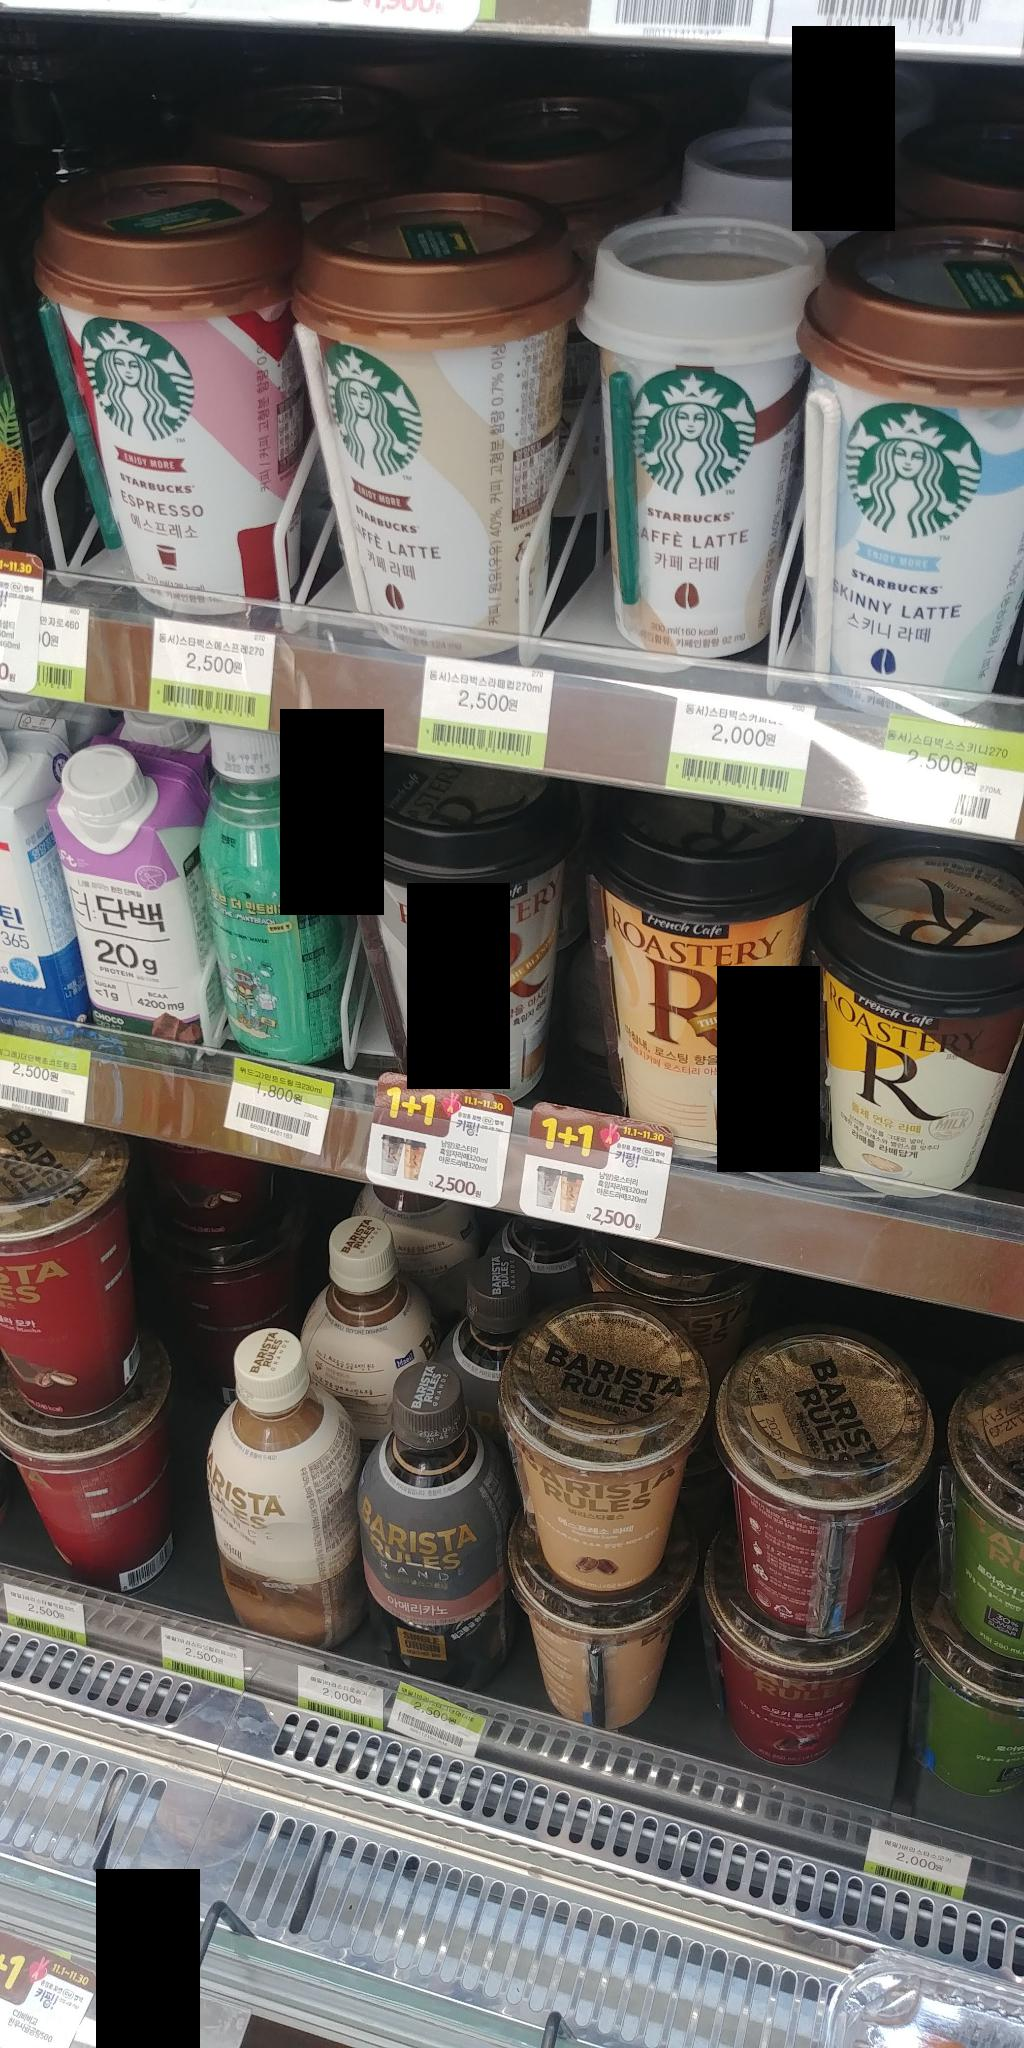baristarules_espressolatte: (524, 1319, 703, 1603)
starbucks_cafelatte: (316, 158, 543, 616)
